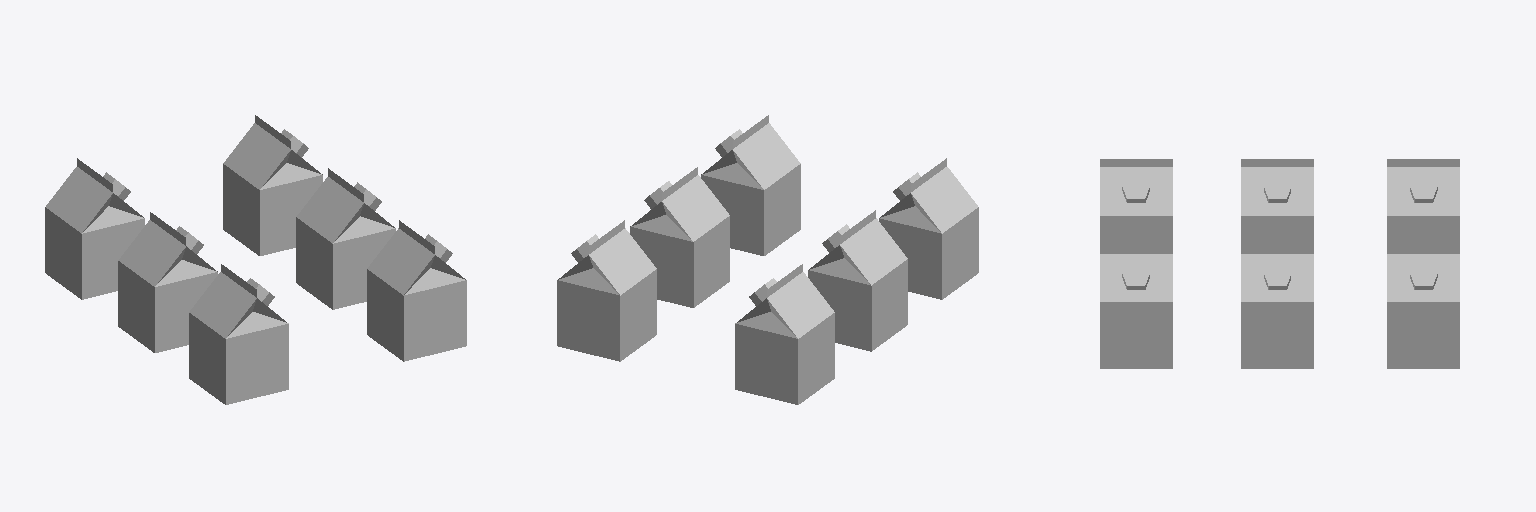
Rendered from fruit-milk-collection.ufbx.obj.
3 views of the same model, side by side, from view 1: azimuth 30°, elevation 25°; view 2: azimuth 150°, elevation 25°; view 3: azimuth 270°, elevation 25° (orthographic).
Visible parts, largest first — view 1: Default; view 2: Default; view 3: Default.
Part boxes in pixels (left/top/right/bottom): Default: left=45, top=115, right=466, bottom=404; Default: left=557, top=115, right=978, bottom=404; Default: left=1100, top=159, right=1459, bottom=368.
Bounding box in the file's own units: 15.25 × 6.5 × 19.75.